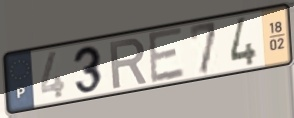3: (72, 42, 108, 96)
4: (228, 14, 260, 69), (39, 49, 67, 102)
7: (188, 19, 219, 78)
E: (146, 25, 188, 86)
R: (107, 36, 149, 92)
